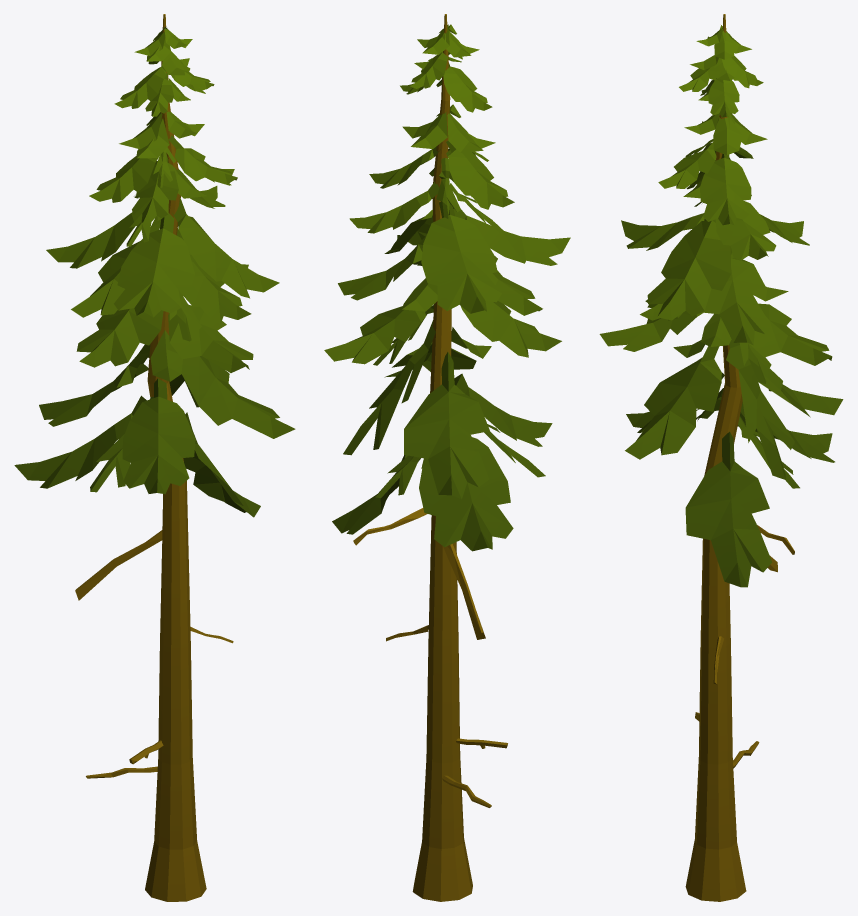
Rendered from source.glb.
3 renders of one model, left to right at view 1: azimuth 30°, elevation 25°; view 2: azimuth 150°, elevation 25°; view 3: azimuth 270°, elevation 25°, orthographic.
Visible parts, largest first — view 1: coniferous_trees_17; view 2: coniferous_trees_17; view 3: coniferous_trees_17.
Part boxes in pixels (left/top/right/bottom): coniferous_trees_17: left=14, top=14, right=295, bottom=901; coniferous_trees_17: left=324, top=14, right=570, bottom=901; coniferous_trees_17: left=599, top=14, right=843, bottom=901.
Size of the model in its own units: 2.02 by 8.19 by 2.08.
